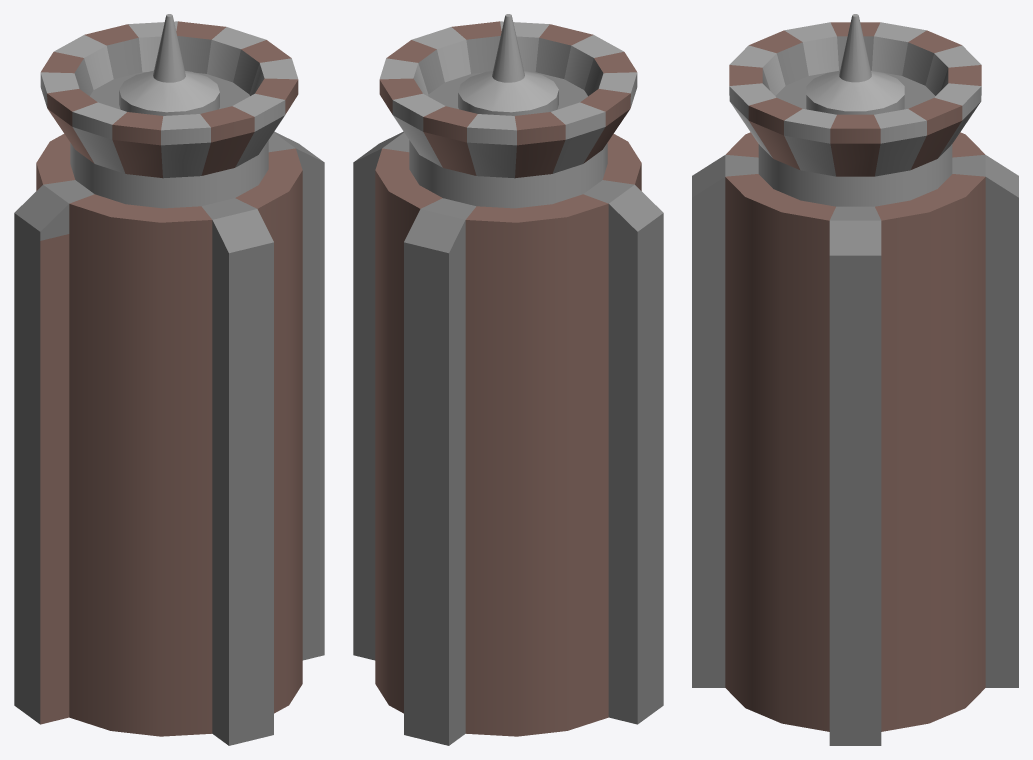
The model's file is ElectromagneticResonanceDevice.fbx.
The picture shows the model from 3 angles, left to right: view 1: azimuth 30°, elevation 25°; view 2: azimuth 150°, elevation 25°; view 3: azimuth 270°, elevation 25°; orthographic projection.
Visible parts, largest first — view 1: Cylinder; view 2: Cylinder; view 3: Cylinder.
Part boxes in pixels (box(x1,y1,x2,y2)): Cylinder: box(14, 14, 324, 745); Cylinder: box(353, 14, 663, 745); Cylinder: box(692, 14, 1018, 745).
Size of the model in its own units: 492 by 1100 by 492.
